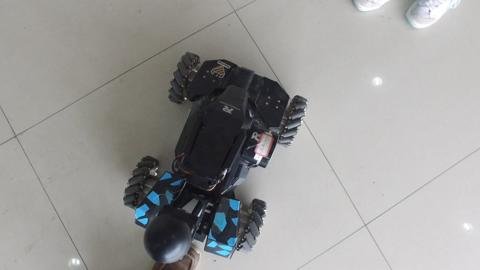chariot: (105, 34, 302, 258)
